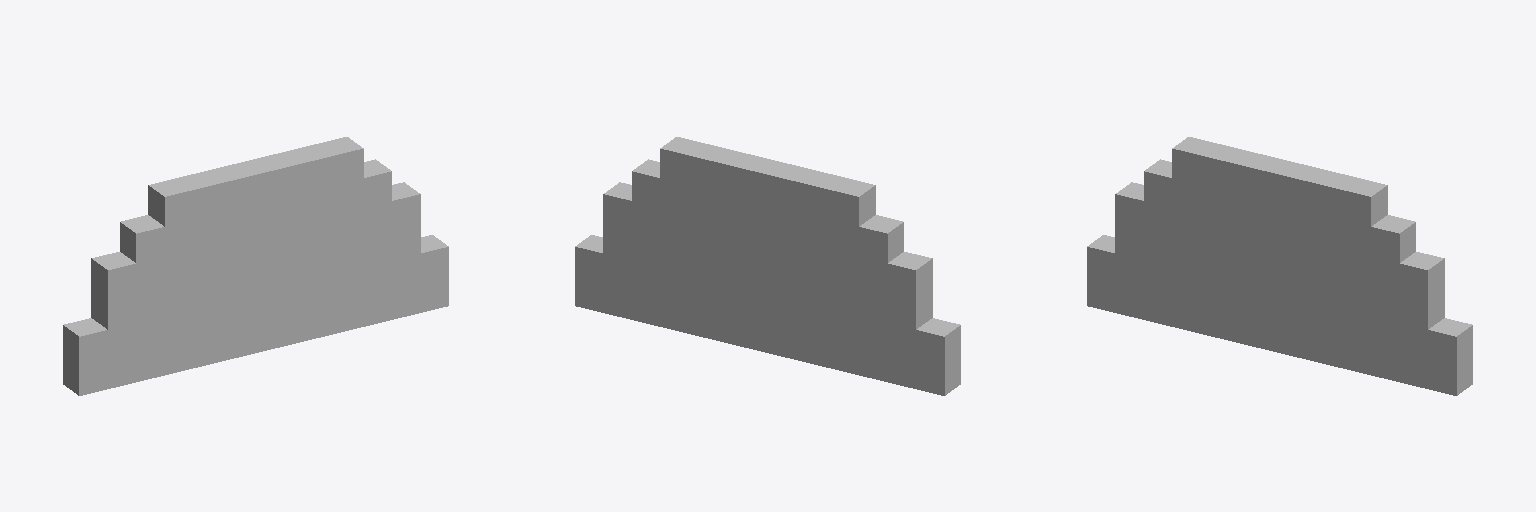
The model's file is дед мороз помер.obj.
3 renders of one model, left to right at view 1: azimuth 30°, elevation 25°; view 2: azimuth 150°, elevation 25°; view 3: azimuth 330°, elevation 25°, orthographic.
Visible parts, largest first — view 1: object 1; view 2: object 1; view 3: object 1.
Part boxes in pixels (bbox=[...]): object 1: bbox=[63, 137, 448, 395]; object 1: bbox=[575, 137, 960, 395]; object 1: bbox=[1087, 137, 1472, 395].
Size of the model in its own units: 1.3 by 0.6 by 0.1.